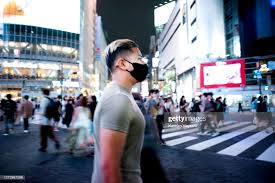mask: (129, 63, 148, 82)
